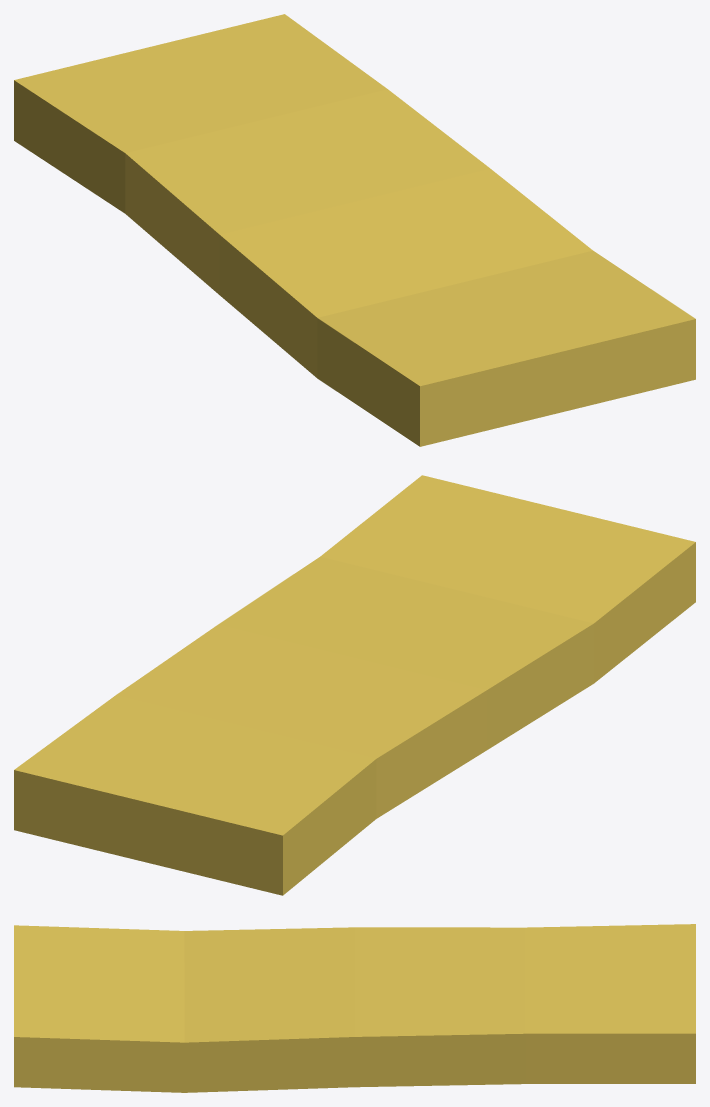
Rendered from 木板右.fbx.
3 renders of one model, top to bottom at view 1: azimuth 30°, elevation 25°; view 2: azimuth 150°, elevation 25°; view 3: azimuth 270°, elevation 25°, orthographic. The views are drawn at different scales.
Parts seen in each view (by area): view 1: R.1; view 2: R.1; view 3: R.1.
Part boxes in pixels (x1,y1,x2,y2): R.1: [14, 14, 695, 446]; R.1: [14, 475, 695, 895]; R.1: [14, 924, 695, 1092].
Size of the model in its own units: 38.75 by 9.58 by 99.93.
